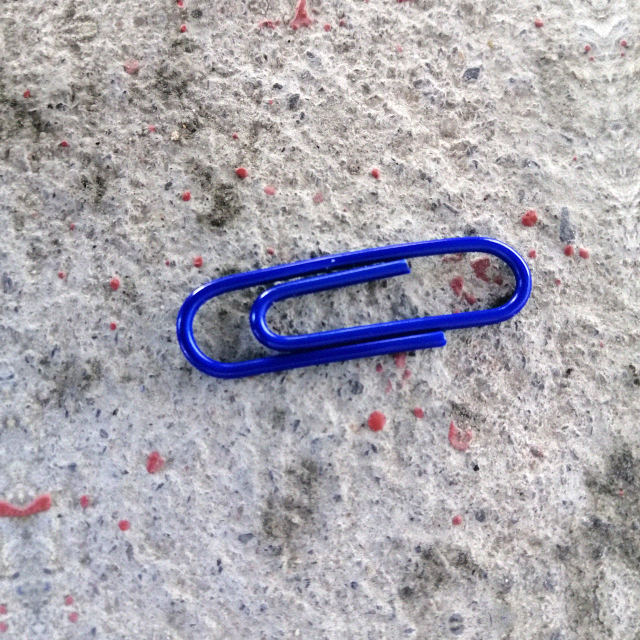pin: (176, 231, 532, 378)
